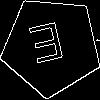E: (26, 21, 69, 73)
